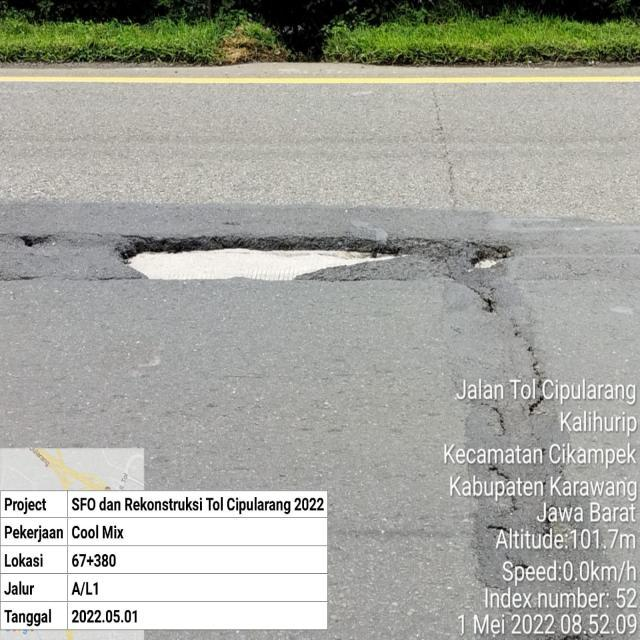Buraco: (111, 232, 446, 284), (454, 239, 518, 275), (10, 233, 61, 253), (472, 291, 499, 317)
